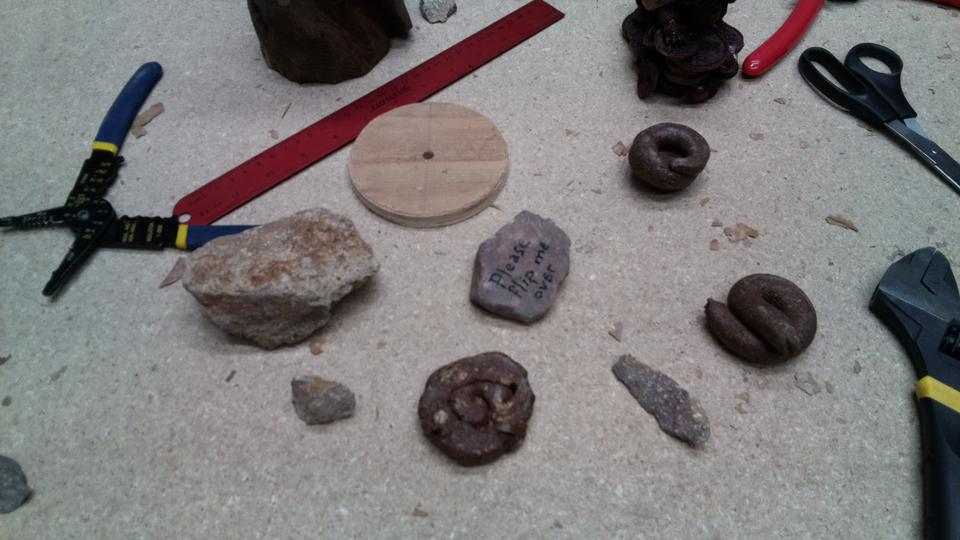poop: (415, 349, 538, 471), (699, 270, 818, 370), (625, 121, 711, 203)
